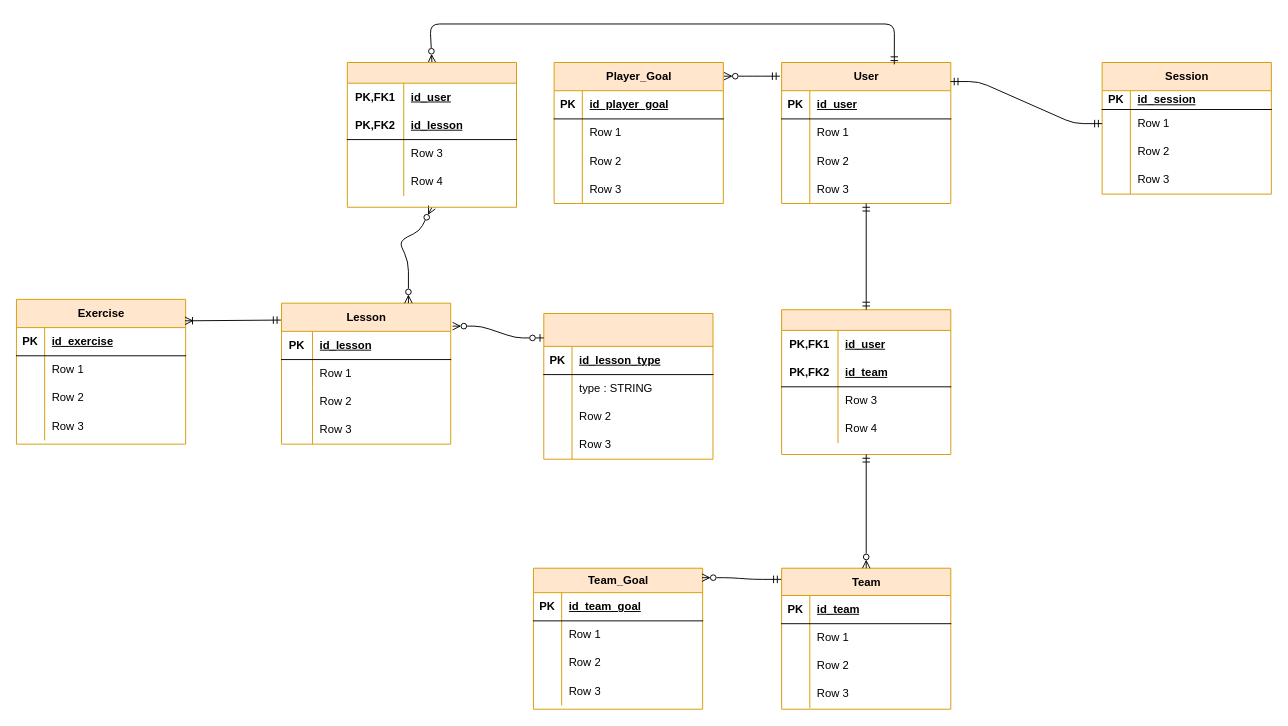
Image size: 1288x726. Some labels were removed from this diagram. Here are the shapes that lost their labels. From the top down, the box of each, then its label:
(346, 62, 517, 207): Catalog
(543, 313, 713, 459): muscle_group
(781, 309, 951, 454): User_Team
